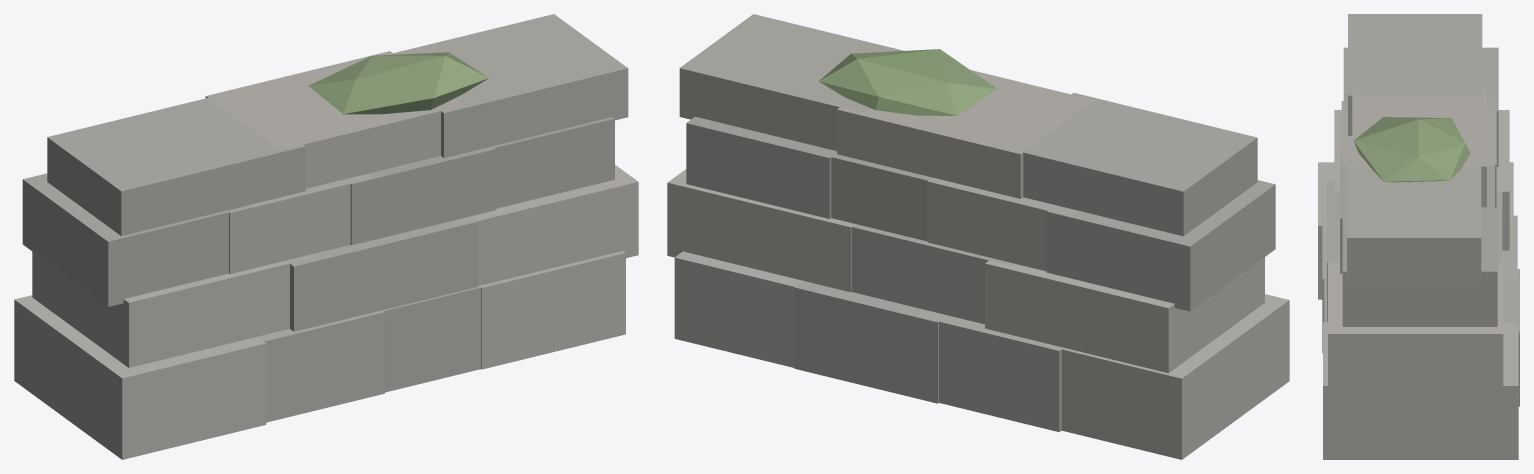
The model's file is stone_wall.glb.
3 views of the same model, side by side, from view 1: azimuth 30°, elevation 25°; view 2: azimuth 150°, elevation 25°; view 3: azimuth 270°, elevation 25° (orthographic). The views are drawn at different scales.
Parts seen in each view (by area): view 1: stone_wall; view 2: stone_wall; view 3: stone_wall.
Boxes of the visible parts, left/top/right/bottom form: stone_wall: left=14, top=14, right=638, bottom=459; stone_wall: left=667, top=14, right=1289, bottom=459; stone_wall: left=1318, top=14, right=1519, bottom=459.
Size of the model in its own units: 1.34 by 0.6658 by 0.4951.
